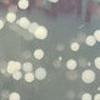white: (34, 24, 48, 40), (81, 69, 95, 85), (16, 16, 30, 30), (25, 21, 39, 35), (7, 61, 22, 74), (35, 67, 47, 82), (66, 58, 79, 71), (85, 34, 96, 48), (33, 48, 45, 60), (17, 0, 30, 11), (70, 41, 81, 54), (6, 13, 16, 24), (24, 73, 34, 83), (9, 91, 20, 100), (93, 29, 100, 43), (0, 17, 6, 33), (13, 72, 23, 81), (94, 55, 100, 69), (23, 63, 33, 71), (81, 93, 92, 100), (48, 0, 61, 5), (93, 94, 100, 100), (58, 56, 64, 62), (86, 61, 91, 68), (96, 86, 100, 91)
